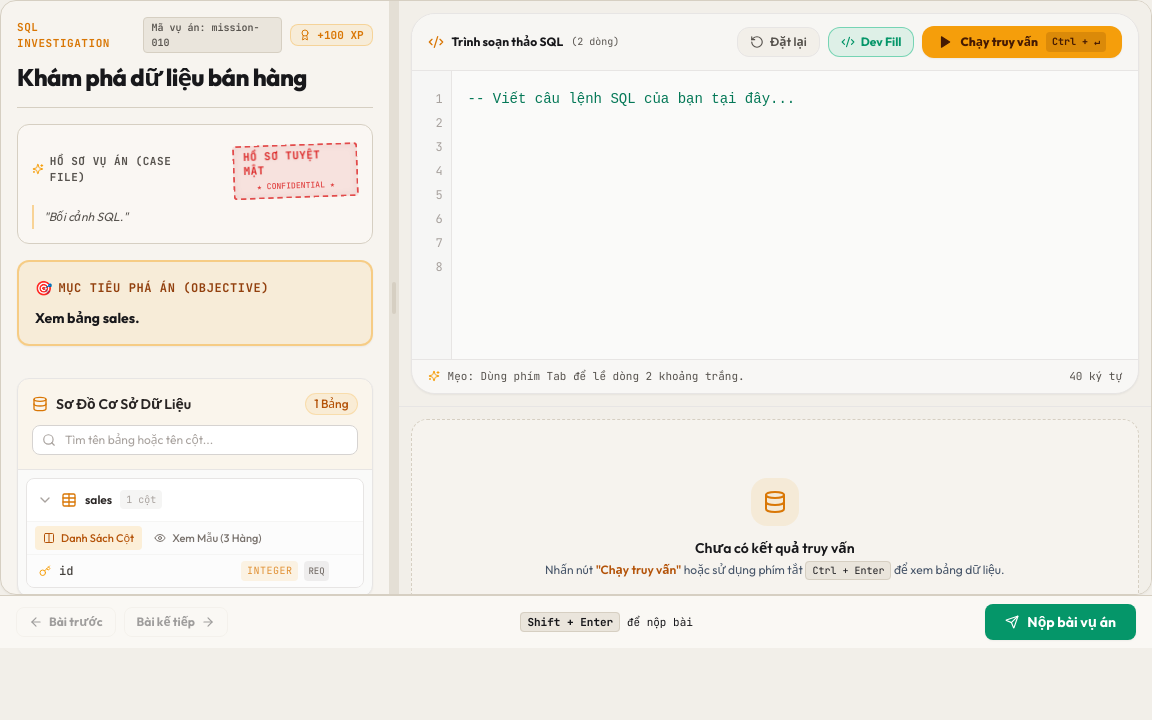
Test: SqlMissionPage › displays inline alert feedback when submission is incorrect
Expected: the text "Khám phá dữ liệu bán hàng" is shown, [17, 61, 307, 93]
// Run query
Click the button with aria-label "chạy câu lệnh sql" at point(1022, 42), box [922, 26, 1122, 58]
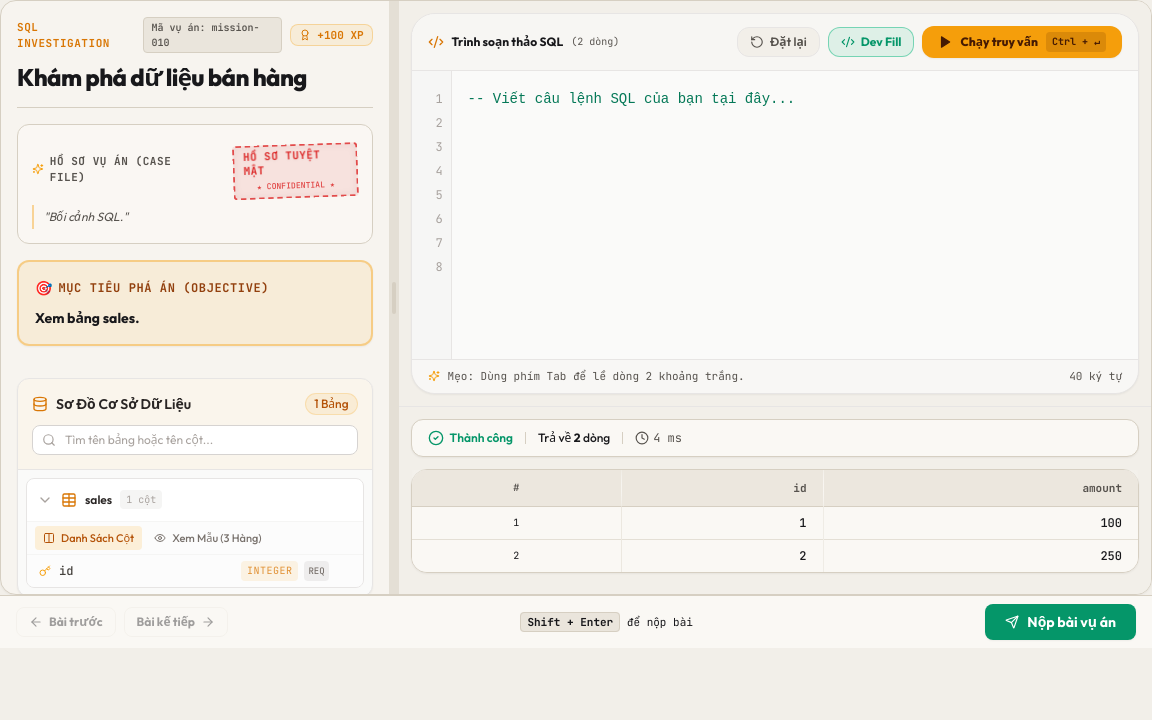
// Submit query
Click the button "Nộp bài vụ án" at point(1061, 622), box [985, 604, 1136, 640]
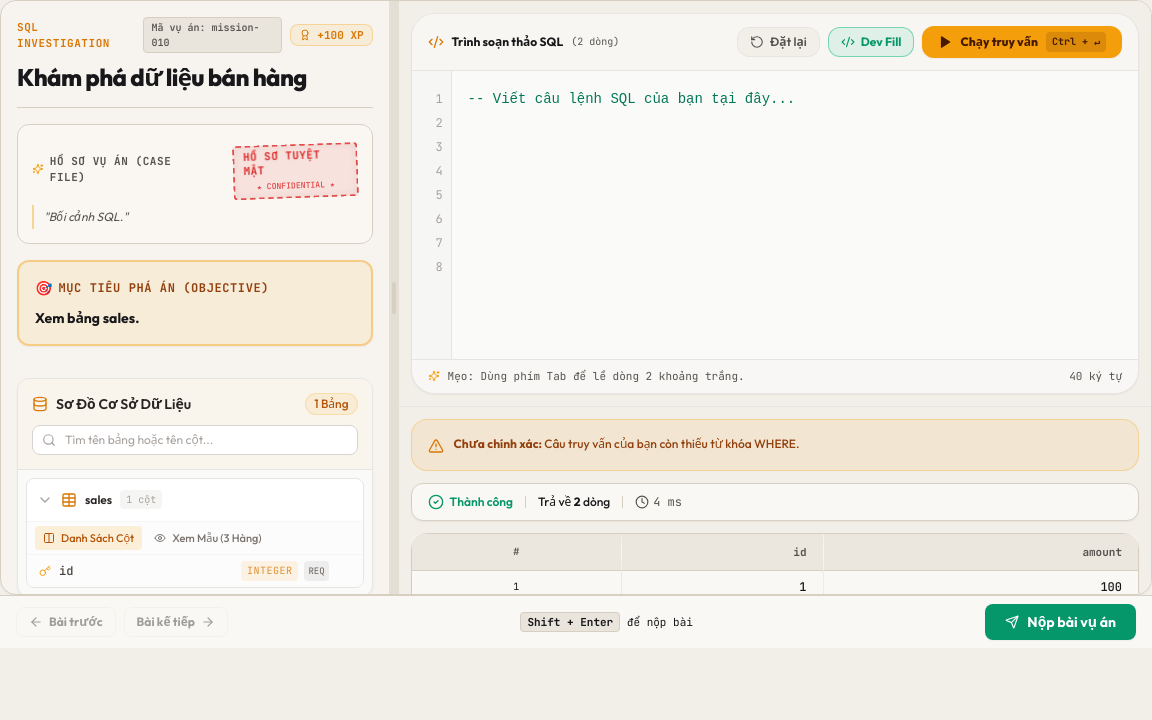
Expected: the message "Chưa chính xác: Câu truy vấn của bạn còn thiếu từ khóa WHERE." is shown, [411, 418, 1139, 470]
Expected: the text "Chưa chính xác:" is shown, [454, 436, 544, 450]
Expected: the text "Câu truy vấn của bạn còn thiếu từ khóa WHERE." is shown, [544, 436, 800, 450]
